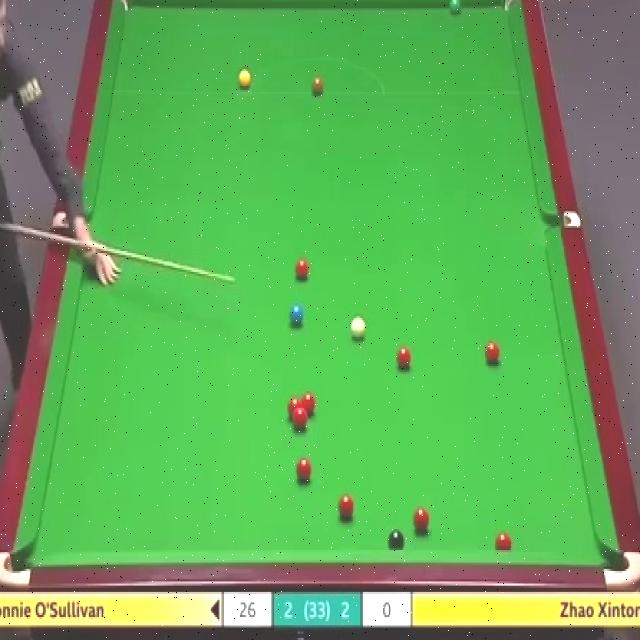black-ball: (388, 528, 405, 551)
blue-ball: (289, 301, 302, 323)
brown-ball: (311, 73, 324, 94)
green-ball: (448, 0, 462, 13)
red-ball: (296, 453, 314, 483), (412, 508, 431, 536), (338, 493, 356, 522), (396, 343, 412, 371), (287, 397, 302, 423), (484, 341, 499, 367), (493, 530, 513, 549), (295, 256, 310, 281), (302, 392, 316, 418), (293, 411, 309, 431)
white-ball: (349, 316, 367, 341)
yellow-ball: (238, 72, 250, 88)
